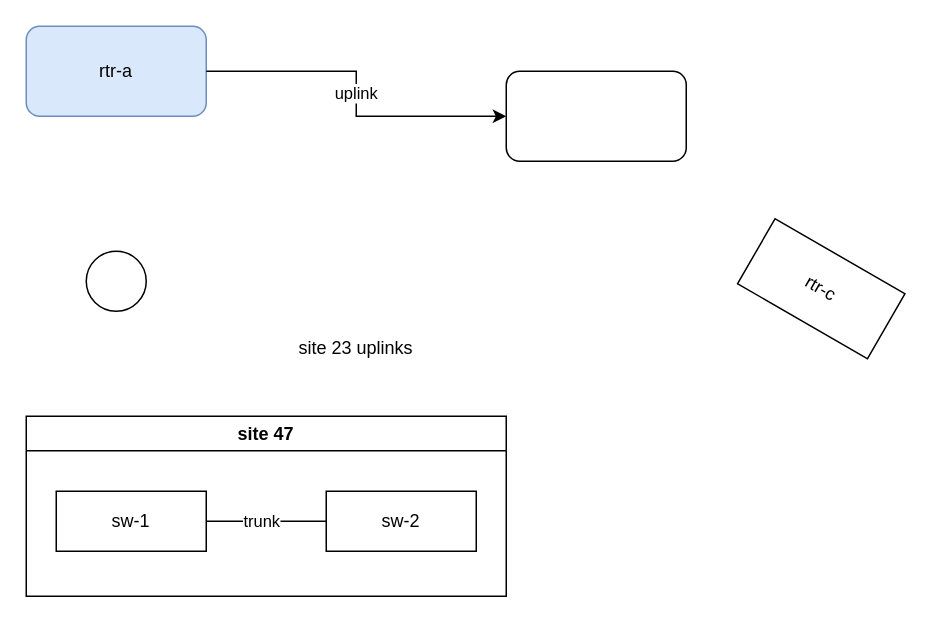
Image size: 932x623. Some labels were removed from this diagram. Each missing label, with the box of its shape:
rtr-b: (505, 70, 686, 161)
srv-1: (85, 250, 146, 311)
